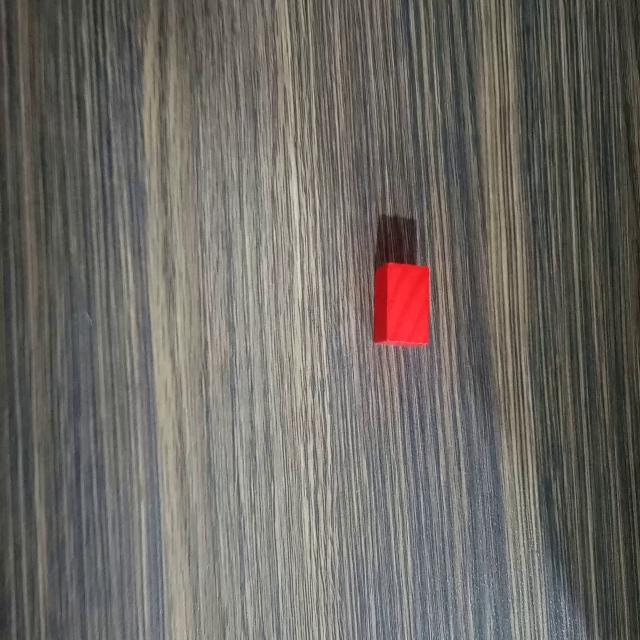cube: (371, 251, 433, 353)
